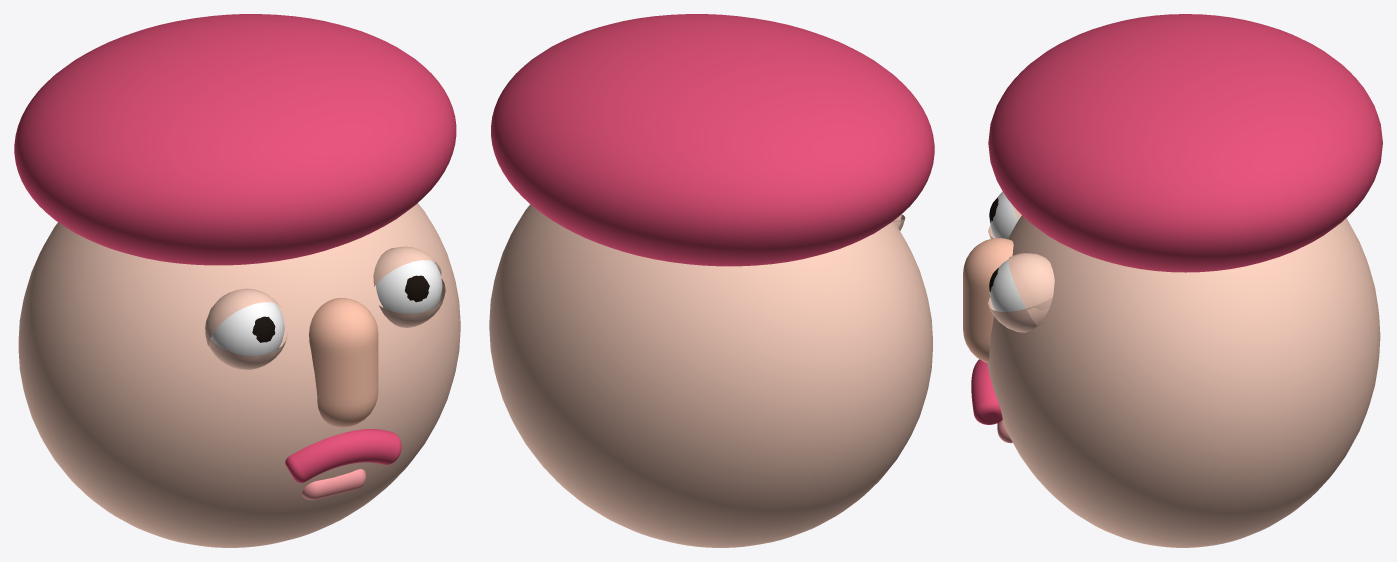
The picture shows the model from 3 angles, left to right: view 1: azimuth 30°, elevation 25°; view 2: azimuth 150°, elevation 25°; view 3: azimuth 270°, elevation 25°; orthographic projection. The views are drawn at different scales.
Parts seen in each view (by area): view 1: face, hairs, nose, beard, eyes_r_white, eyes_l_white, eyes_r_skins_up, mouth, eyes_l_skins_up, eyes_r_skins, eyes_l_skins; view 2: face, hairs; view 3: face, hairs, nose, eyes_l_skins_up, beard, eyes_l_white, eyes_l_skins, eyes_r_white.
Boxes of the visible parts, x1,y1,x2,y2 form: face: (18, 203, 460, 547); hairs: (14, 14, 456, 265); nose: (309, 298, 378, 427); beard: (285, 429, 401, 482); eyes_r_white: (210, 302, 284, 355); eyes_l_white: (376, 260, 442, 313); eyes_r_skins_up: (205, 288, 281, 346); mouth: (302, 469, 365, 500); eyes_l_skins_up: (373, 246, 441, 286); eyes_r_skins: (205, 328, 286, 369); eyes_l_skins: (379, 279, 445, 327); face: (489, 204, 932, 547); hairs: (491, 14, 934, 266); face: (987, 215, 1380, 547); hairs: (988, 14, 1382, 272); nose: (963, 238, 1013, 363); eyes_l_skins_up: (1008, 253, 1054, 326); beard: (971, 359, 1002, 424); eyes_l_white: (989, 259, 1025, 311); eyes_l_skins: (988, 297, 1052, 332); eyes_r_white: (990, 191, 1017, 239).
Size of the model in its own units: 109 by 125 by 102.
